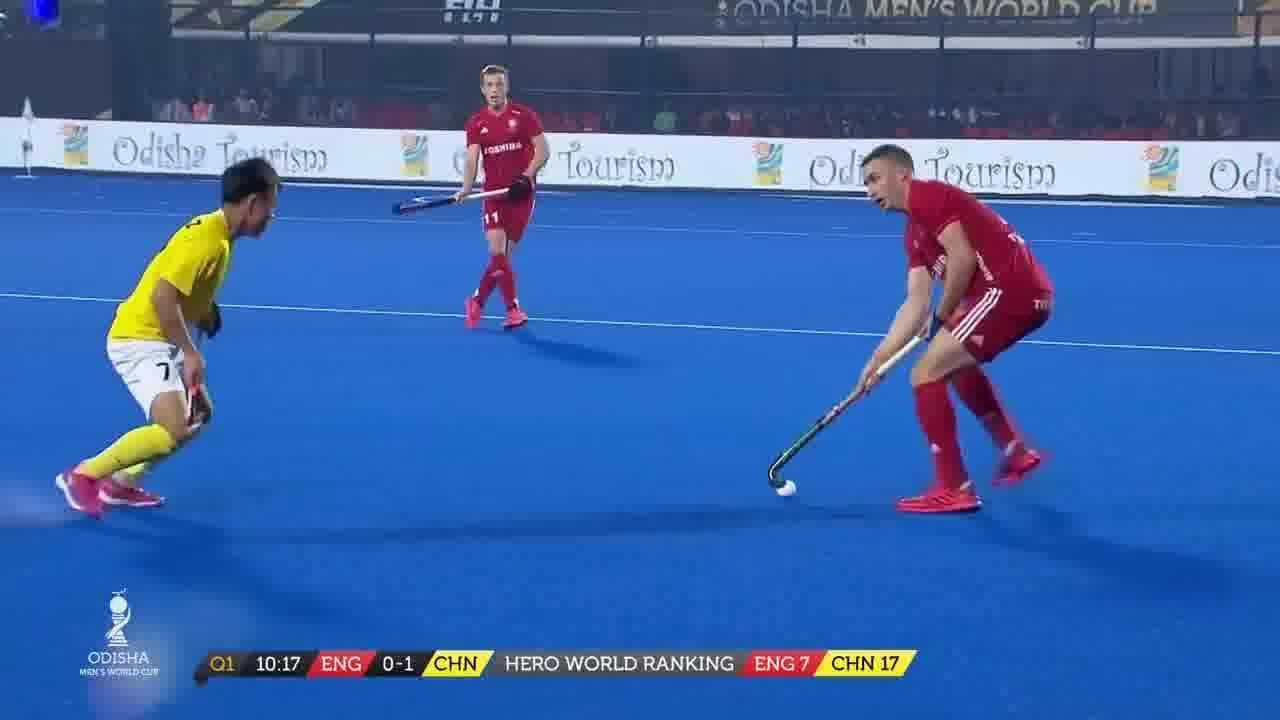ball: (778, 484, 802, 506)
